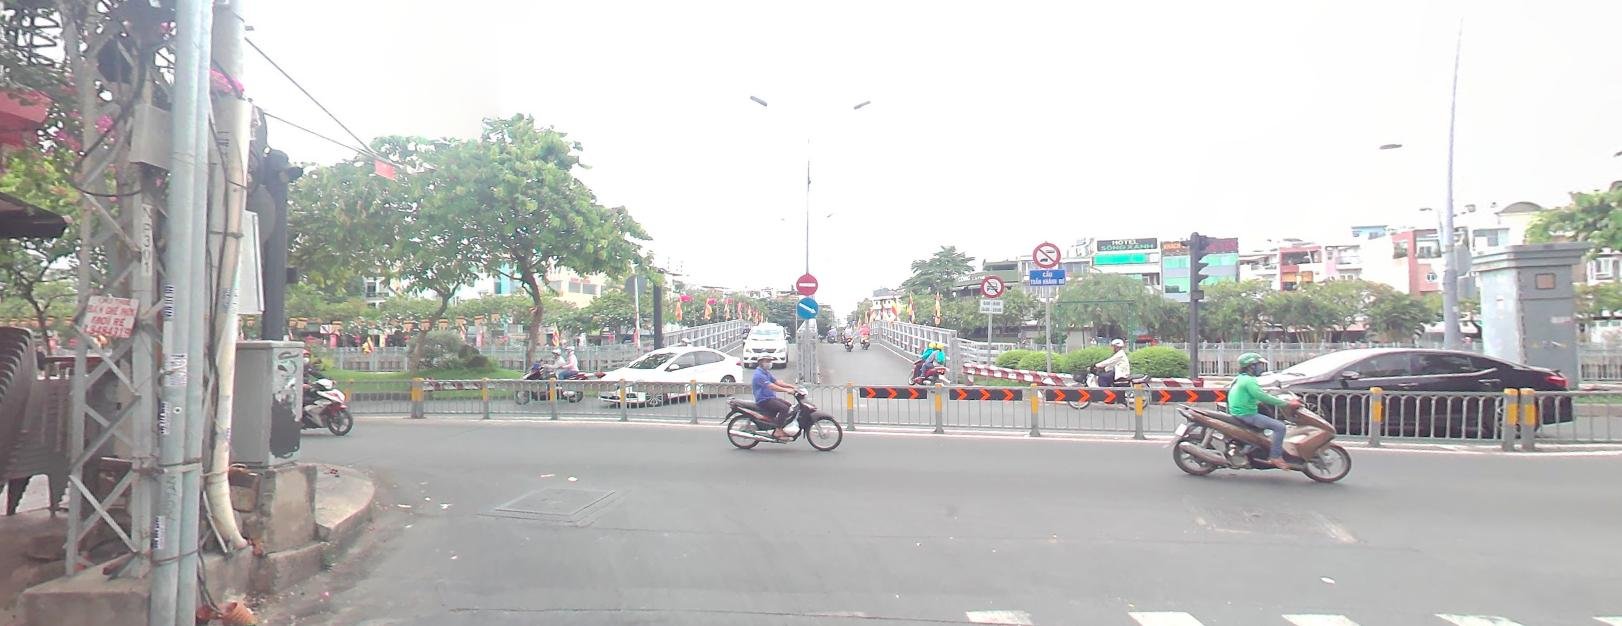Cam con lai: (1032, 241, 1060, 265), (980, 275, 1003, 296)
Cam nguoc chieu: (795, 273, 817, 294)
Hieu lenh: (797, 296, 818, 317)
